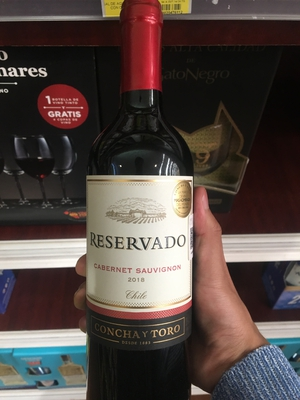reservado cabernet sauvignon: (82, 10, 202, 383)
